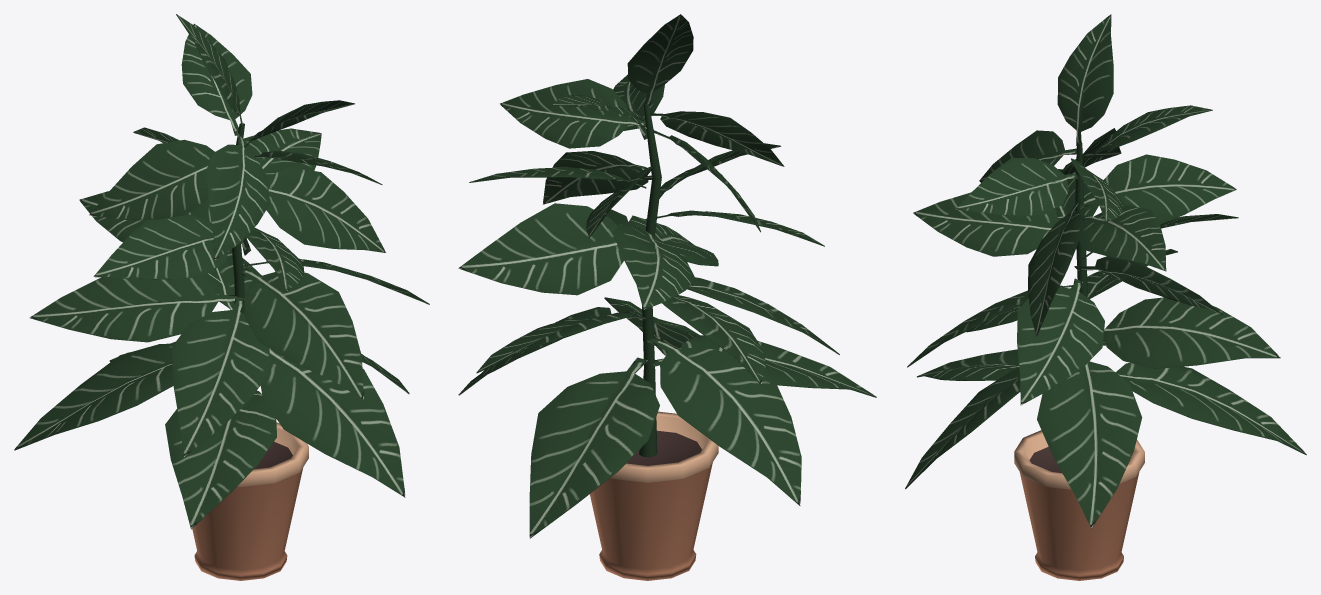
Rendered from Plant_01.fbx.
The picture shows the model from 3 angles, left to right: view 1: azimuth 30°, elevation 25°; view 2: azimuth 150°, elevation 25°; view 3: azimuth 270°, elevation 25°; orthographic projection. The views are drawn at different scales.
Parts seen in each view (by area): view 1: pPlane5, pCylinder19, pPlane9, pPlane10, pPlane8, pPlane4, pPlane19, pPlane16, pPlane3, pPlane14, pPlane20, pPlane23 (+9 smaller); view 2: pCylinder19, pPlane2, pPlane3, pPlane12, pPlane22, pPlane13, pPlane8, pPlane24, pPlane4, pPlane16, pPlane20, pCylinder20 (+12 smaller); view 3: pPlane6, pCylinder19, pPlane7, pPlane11, pPlane2, pPlane18, pPlane15, pPlane21, pPlane24, pPlane17, pPlane16, pPlane5 (+11 smaller).
Boxes of the visible parts, <box> form: pPlane5: <box>260,349,405,497</box>; pCylinder19: <box>192,422,308,580</box>; pPlane9: <box>171,296,269,457</box>; pPlane10: <box>240,267,363,399</box>; pPlane8: <box>29,277,234,342</box>; pPlane4: <box>165,390,276,529</box>; pPlane19: <box>89,139,214,219</box>; pPlane16: <box>266,167,385,252</box>; pPlane3: <box>14,343,173,450</box>; pPlane14: <box>93,214,228,279</box>; pPlane20: <box>206,132,269,260</box>; pPlane23: <box>181,23,252,135</box>; pCylinder19: <box>590,411,718,580</box>; pPlane2: <box>529,357,659,538</box>; pPlane3: <box>647,337,801,505</box>; pPlane12: <box>458,203,623,295</box>; pPlane22: <box>499,79,645,148</box>; pPlane13: <box>613,224,695,310</box>; pPlane8: <box>662,295,766,384</box>; pPlane24: <box>627,14,693,108</box>; pPlane4: <box>652,335,876,397</box>; pPlane16: <box>542,151,648,204</box>; pPlane20: <box>650,111,784,166</box>; pCylinder20: <box>639,103,661,457</box>; pPlane6: <box>1037,361,1142,528</box>; pCylinder19: <box>1014,430,1144,580</box>; pPlane7: <box>1103,297,1280,368</box>; pPlane11: <box>1017,278,1104,405</box>; pPlane2: <box>1115,363,1306,455</box>; pPlane18: <box>1080,154,1236,224</box>; pPlane15: <box>913,192,1058,256</box>; pPlane21: <box>955,158,1078,216</box>; pPlane24: <box>1057,14,1113,147</box>; pPlane17: <box>1079,205,1166,271</box>; pPlane16: <box>1028,200,1082,336</box>; pPlane5: <box>905,368,1020,489</box>.
Bounding box in the file's own units: 95.79 × 139 × 96.
Materials: 2 (2 with a texture image).
